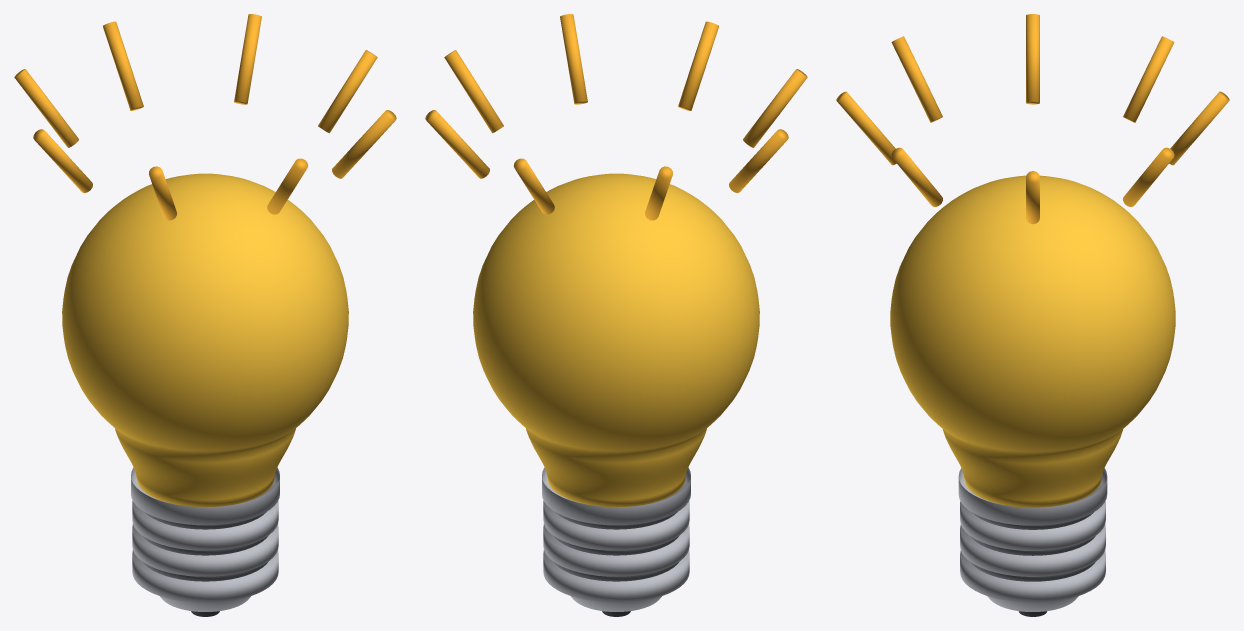
File: LightBulb.glb
The picture shows the model from 3 angles, left to right: view 1: azimuth 30°, elevation 25°; view 2: azimuth 150°, elevation 25°; view 3: azimuth 270°, elevation 25°; orthographic projection.
Visible parts, largest first — view 1: LightBulb; view 2: LightBulb; view 3: LightBulb.
Boxes of the visible parts, <box> form: LightBulb: <box>14,14,396,616</box>; LightBulb: <box>425,14,807,616</box>; LightBulb: <box>836,14,1229,616</box>.
Size of the model in its own units: 1.38 by 2.01 by 1.38.
Materials: 1 (1 with a texture image).
